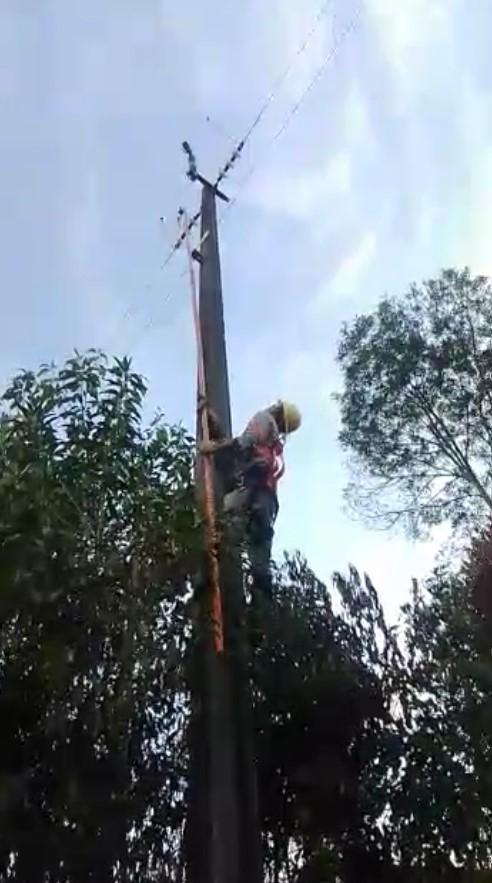Vara_Manobra: (180, 214, 221, 658)
